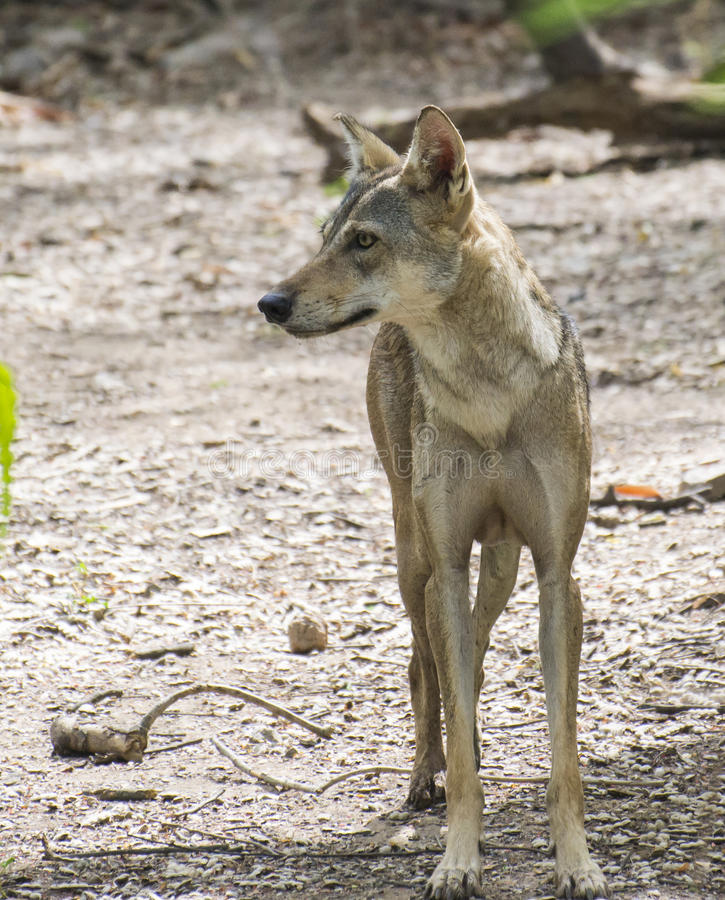dog: (263, 121, 614, 900)
